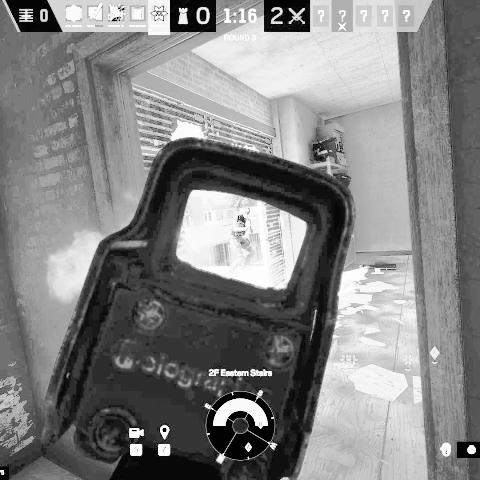Character: (228, 206, 255, 278)
Head: (242, 206, 251, 218)
